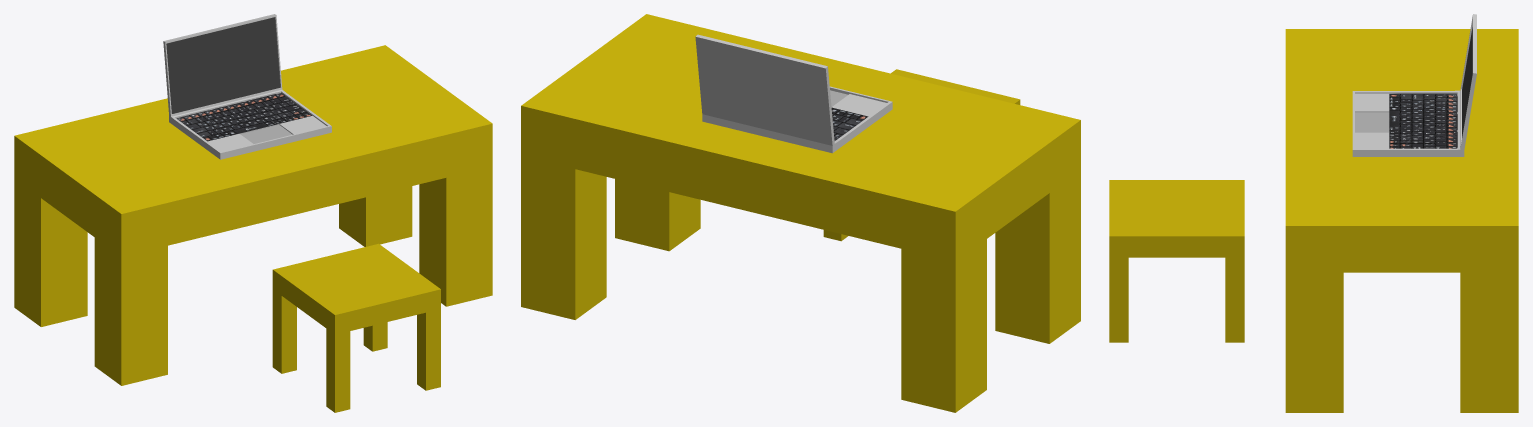
Rendered from workPlace.fbx.
The picture shows the model from 3 angles, left to right: view 1: azimuth 30°, elevation 25°; view 2: azimuth 150°, elevation 25°; view 3: azimuth 270°, elevation 25°; orthographic projection. The views are drawn at different scales.
Parts seen in each view (by area): view 1: table, Cube, laptop; view 2: table, laptop, Cube; view 3: table, Cube, laptop.
Part boxes in pixels (bbox=[...]): table: bbox=[14, 45, 492, 385]; Cube: bbox=[272, 243, 440, 412]; laptop: bbox=[163, 14, 331, 159]; table: bbox=[521, 14, 1080, 412]; laptop: bbox=[695, 34, 892, 153]; Cube: bbox=[823, 69, 1020, 241]; table: bbox=[1285, 29, 1518, 412]; Cube: bbox=[1109, 180, 1244, 342]; laptop: bbox=[1352, 14, 1476, 156].
Bounding box in the file's own units: 400 × 257 × 351.
6 materials, 1 textured.
